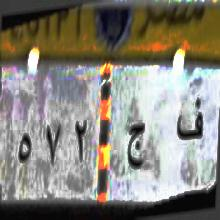2: (74, 114, 89, 168)
5: (16, 129, 34, 173)
7: (44, 113, 63, 168)
faa: (174, 98, 206, 148)
jeem: (126, 116, 148, 178)
